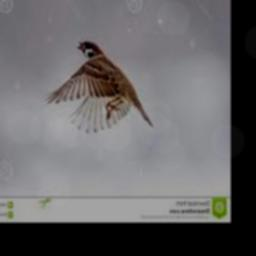Sparrow: (43, 41, 153, 133)
